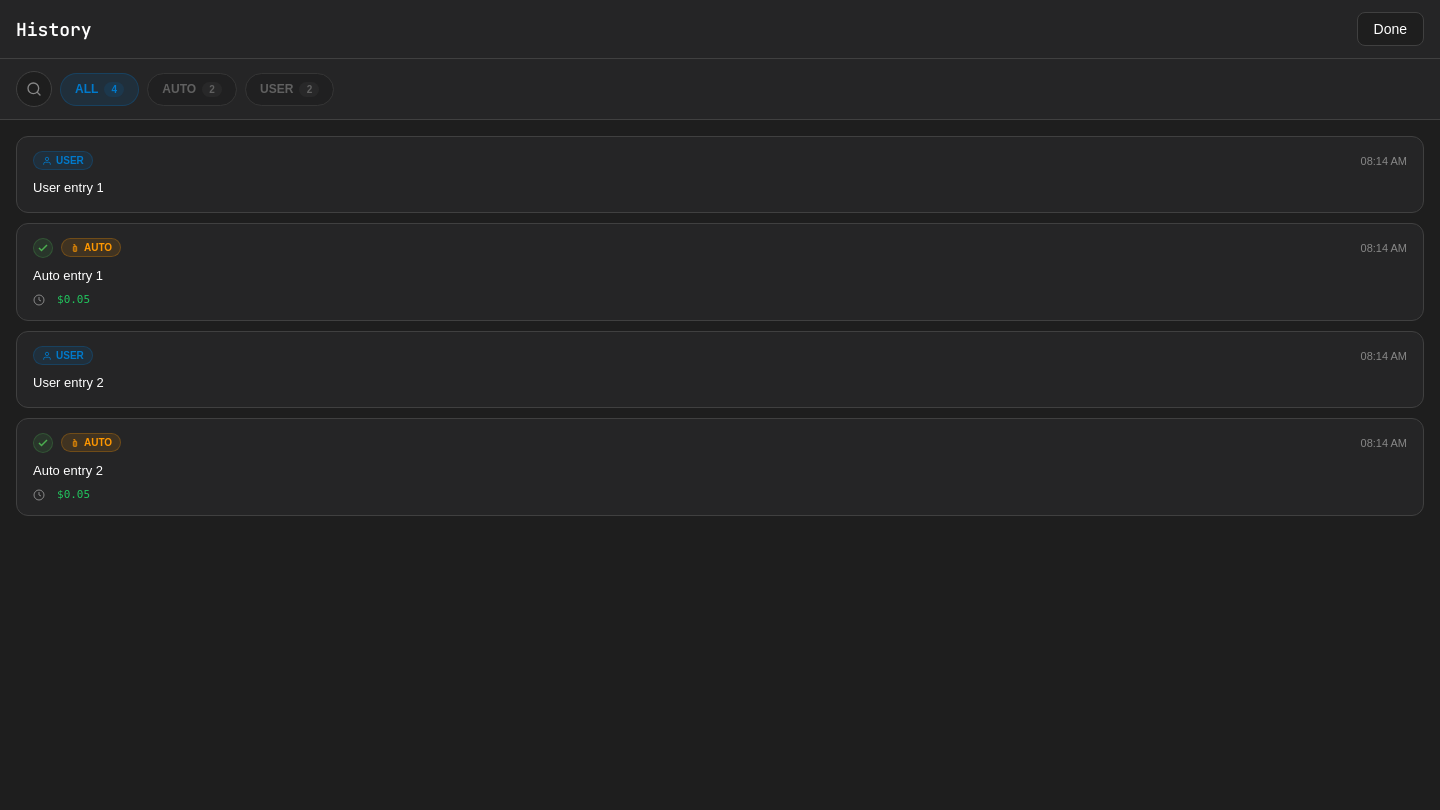
Test: MobileHistoryPanel › Filter functionality › returns to all entries when "All" filter is clicked
Note: First filter to AUTO
Click the button "AUTO 2".
click(192, 89)  # box [147,72,237,106]
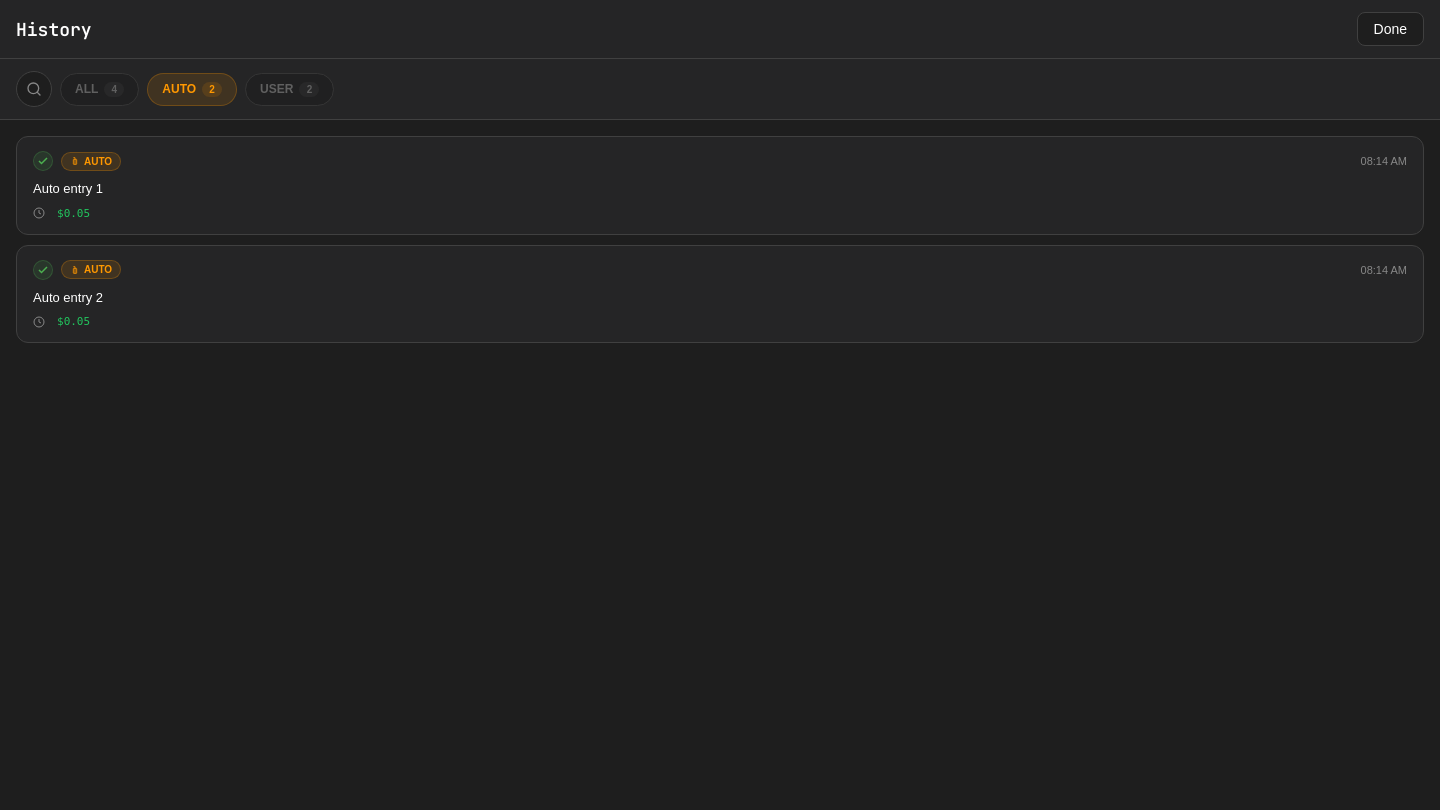
Note: Then back to All
Click the button "All 4".
click(100, 89)  # box [60,72,139,106]
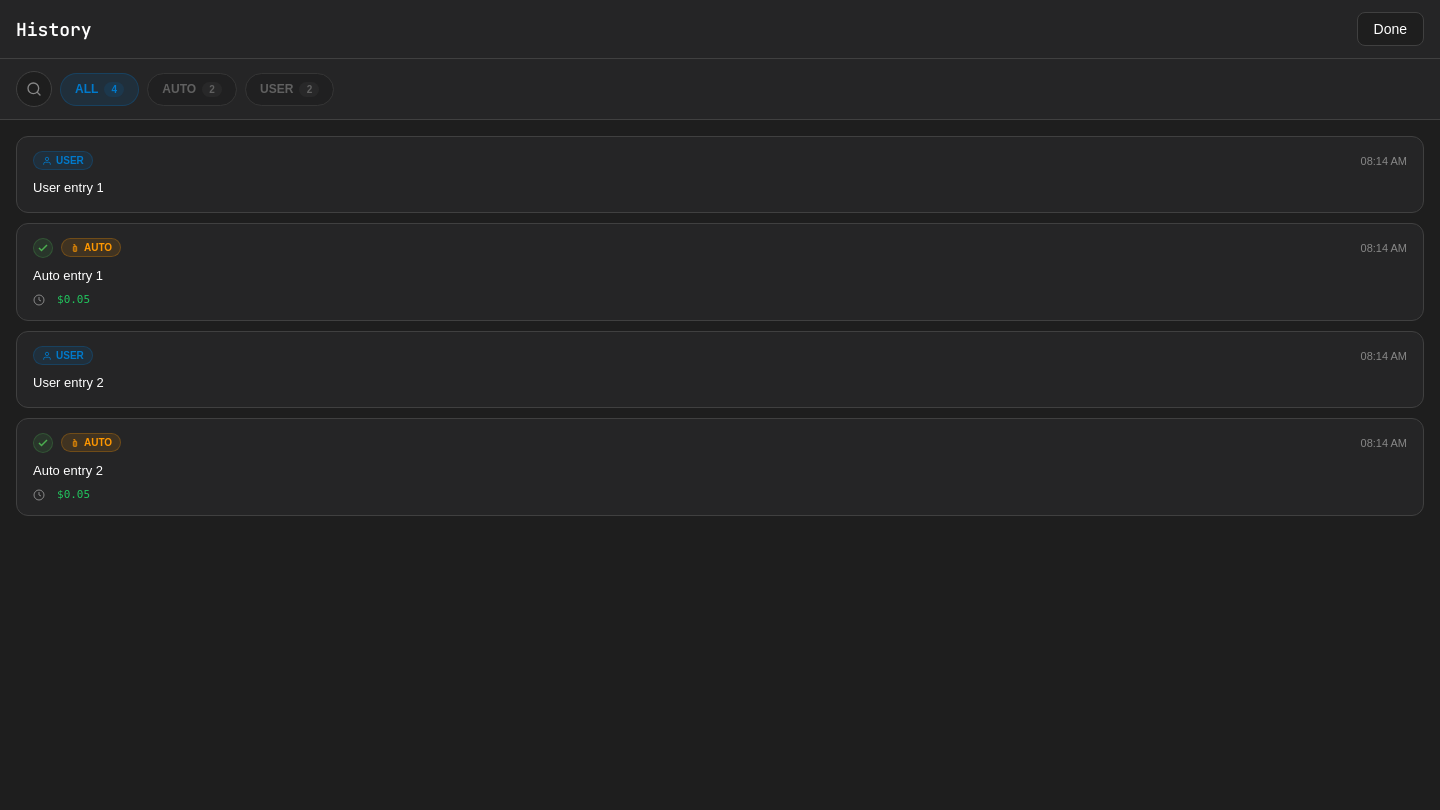
Expected: the text "Auto entry 1" is shown, [33,266,103,285]
Expected: the text "User entry 1" is shown, [33,178,104,198]
